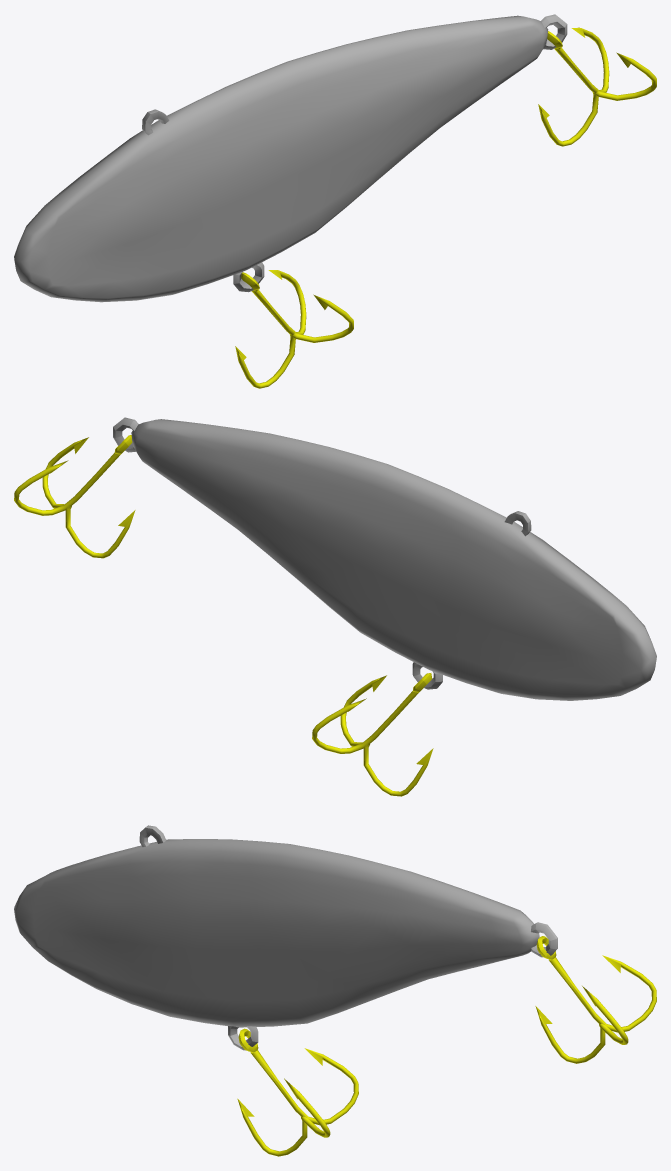
File: Hard_Vibe.fbx
3 renders of one model, top to bottom at view 1: azimuth 30°, elevation 25°; view 2: azimuth 150°, elevation 25°; view 3: azimuth 330°, elevation 25°, orthographic.
Visible parts, largest first — view 1: polySurface410; view 2: polySurface410; view 3: polySurface410.
Part boxes in pixels (<box>): polySurface410: <box>14,14,656,388</box>; polySurface410: <box>14,417,656,796</box>; polySurface410: <box>14,825,656,1156</box>.
Size of the model in its own units: 1.77 by 0.8808 by 0.2332.
